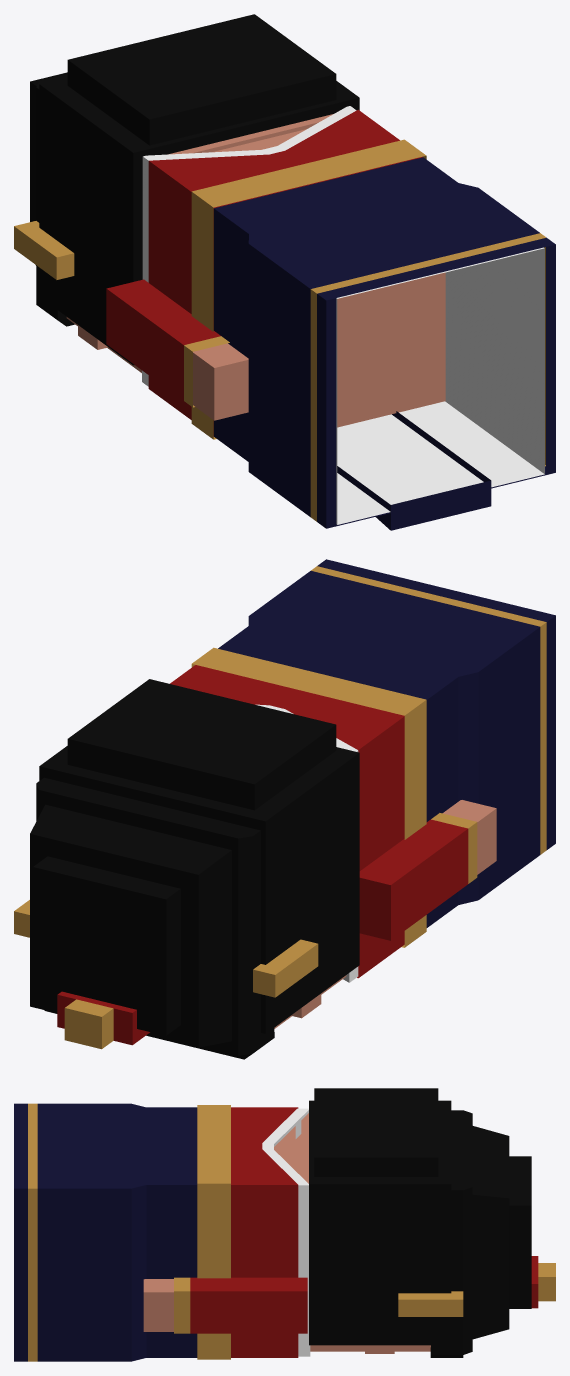
The model's file is SK_Hwangwibi_A01.FBX.
3 views of the same model, one above another, from view 1: azimuth 30°, elevation 25°; view 2: azimuth 150°, elevation 25°; view 3: azimuth 270°, elevation 25° (orthographic). The views are drawn at different scales.
Visible parts, largest first — view 1: Object010; view 2: Object010; view 3: Object010.
Boxes of the visible parts, x1,y1,x2,y2 form: Object010: (14, 14, 555, 530); Object010: (14, 559, 555, 1059); Object010: (14, 1088, 555, 1361).
Size of the model in its own units: 23.16 by 21.53 by 50.44.
